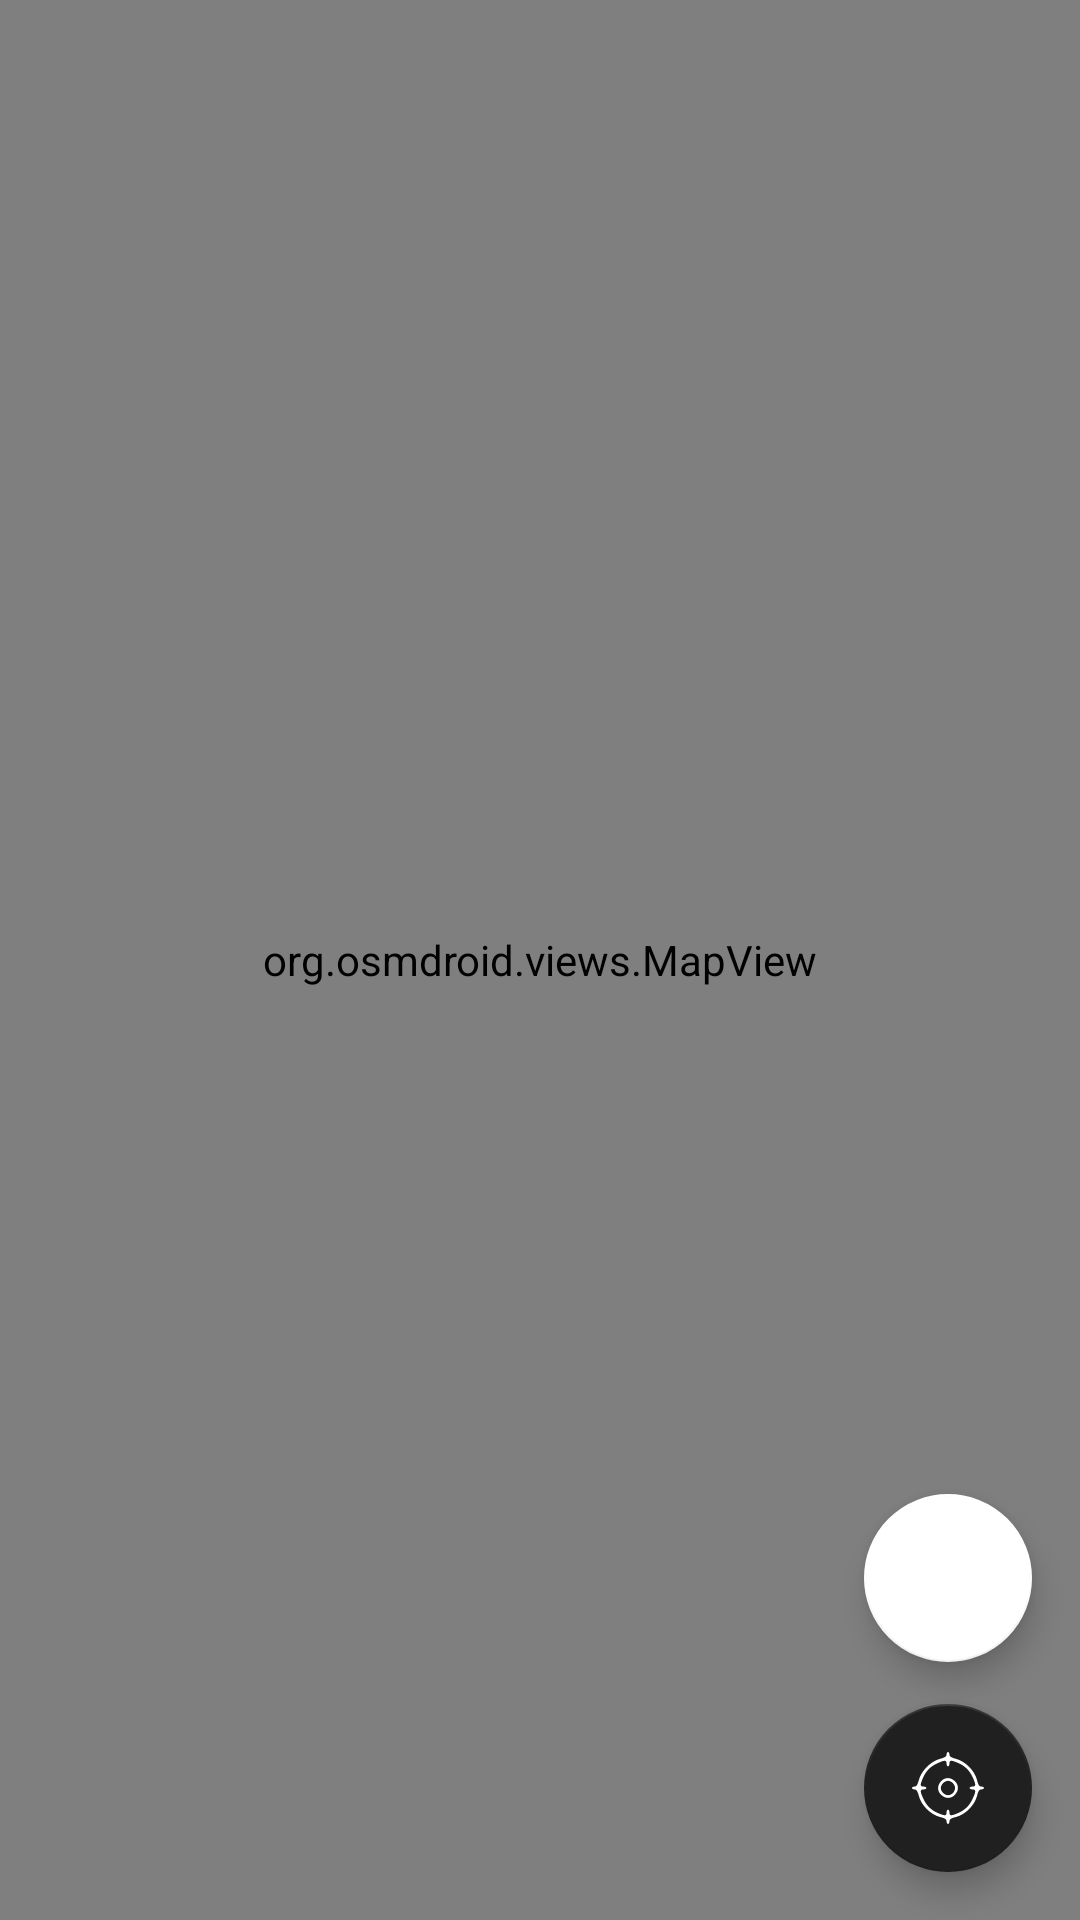

Where to tap for icons on this 1080px×1920px app screen, as (x,y):
My Location: (948,1788)
